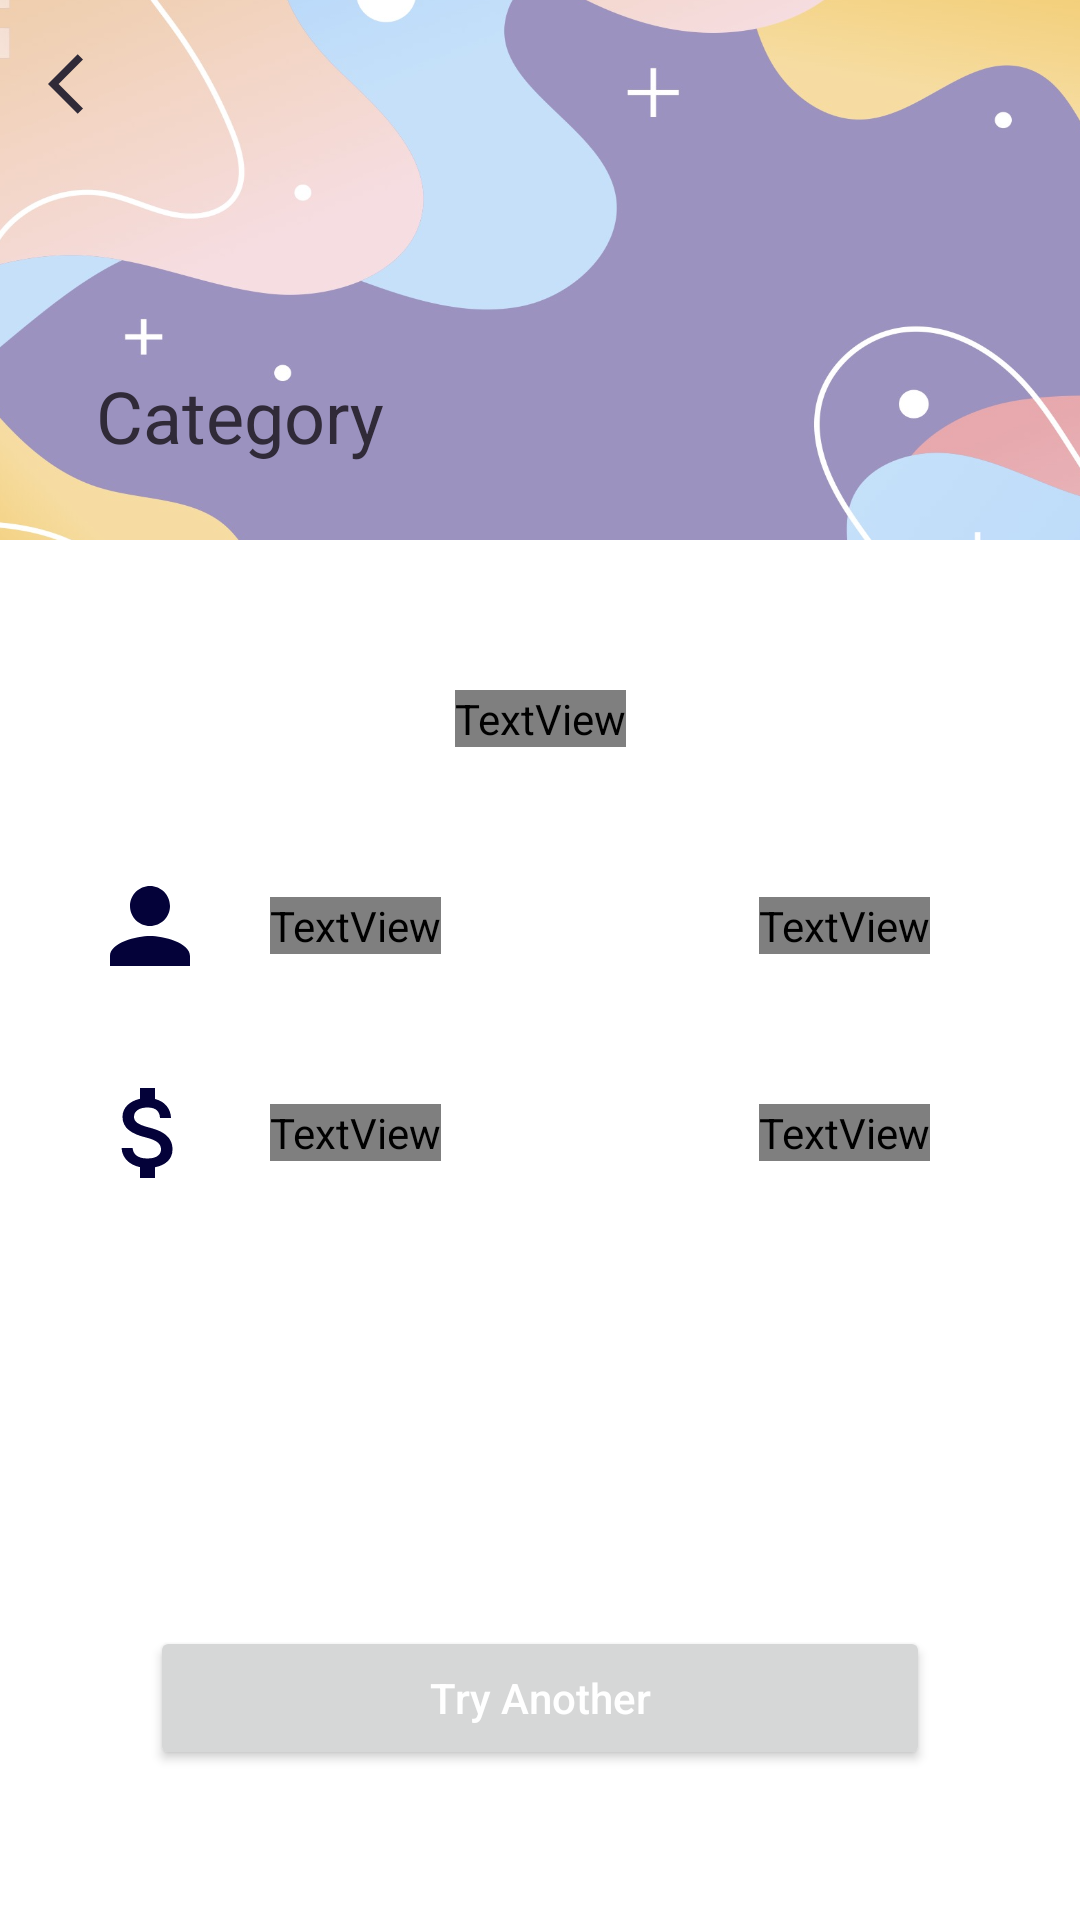

Icons on this 1080 × 1920 Android screen, each with the point to tap as point (x, y):
back arrow: point (65, 84)
participants: point (150, 926)
price: point (147, 1133)
